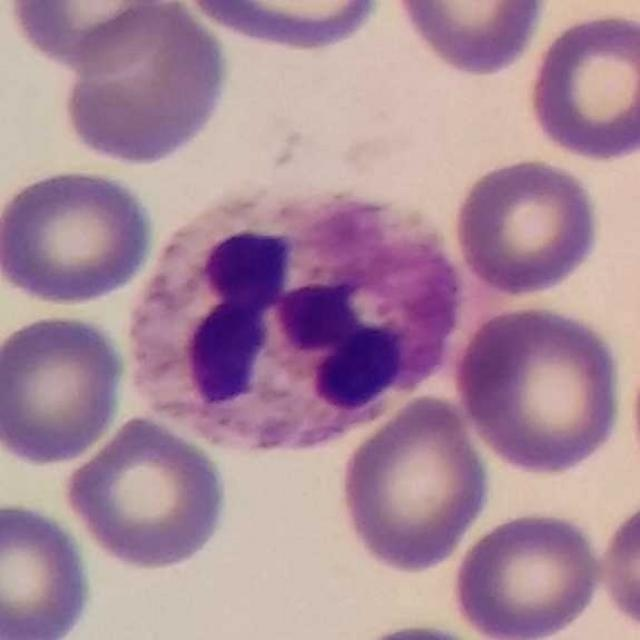Neutrophil: (124, 172, 503, 466)
RBC: (452, 301, 628, 478), (333, 390, 495, 576), (56, 1, 232, 169), (60, 412, 233, 572), (448, 153, 606, 300), (0, 164, 158, 308), (448, 506, 606, 640), (0, 310, 129, 468), (522, 7, 640, 165), (0, 496, 97, 640), (385, 0, 554, 79), (2, 0, 170, 75), (175, 0, 388, 55), (594, 490, 640, 636)
